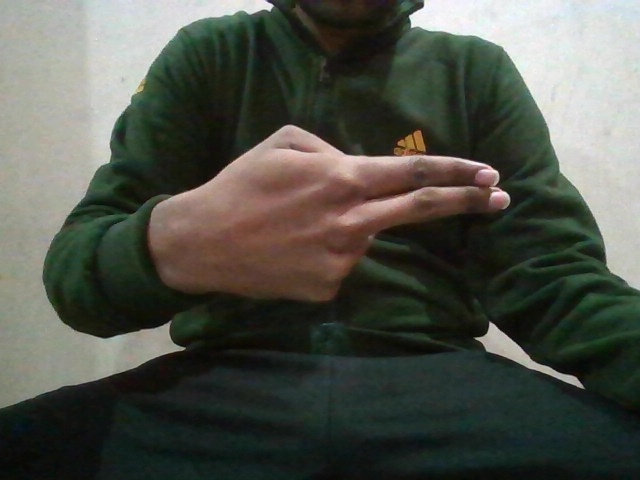H: (169, 123, 533, 308)
